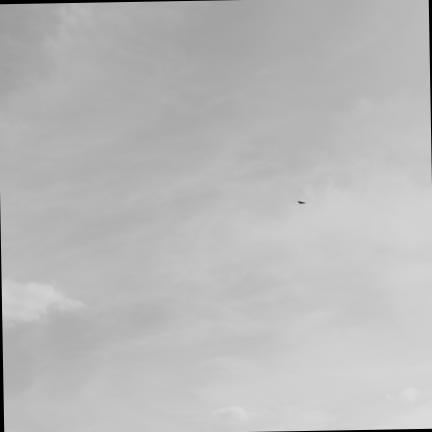Shahed: (297, 200, 306, 204)
